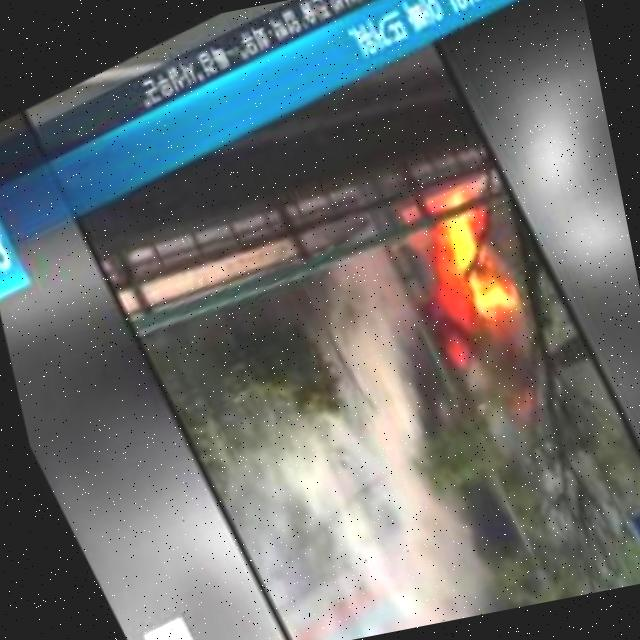fire: (387, 165, 539, 384)
